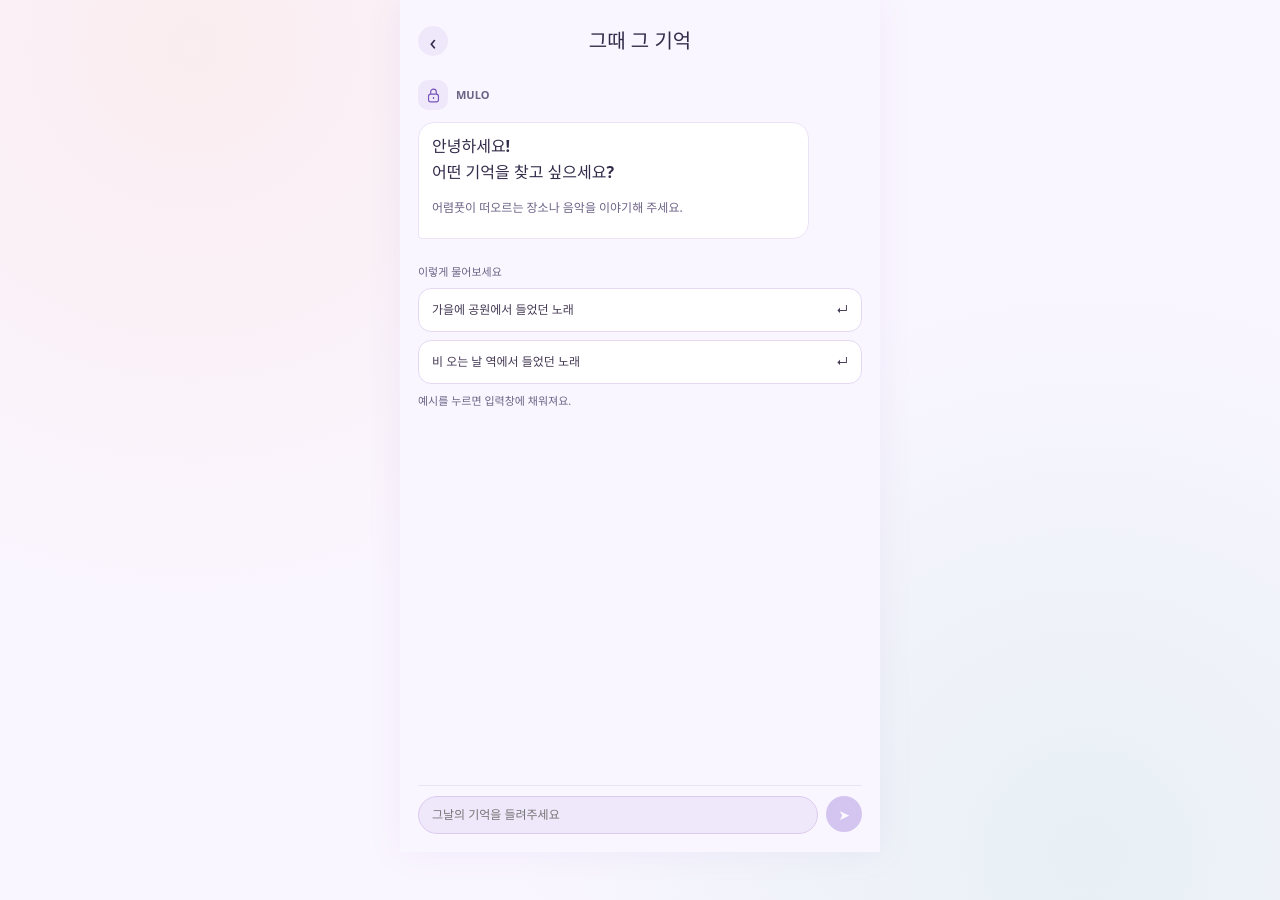
MemorySearchPage › 첫 인사의 예시는 입력만 채우고 전송 후에는 첫 안내를 숨긴다
The width and height of the screenshot is (1280, 900).
Click the button "가을에 공원에서 들었던 노래 ↵".
click(503, 310)  # box [418,288,862,332]
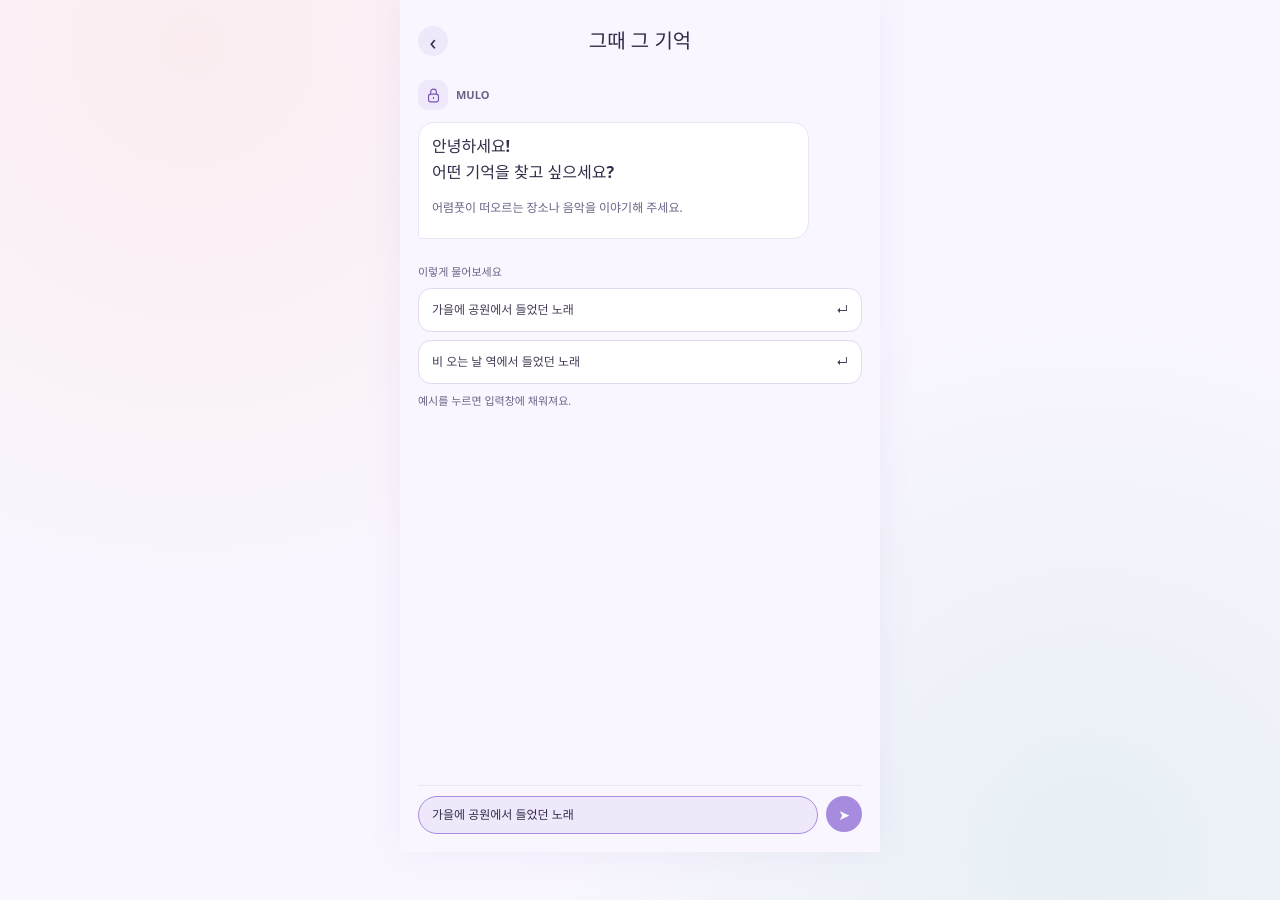
Now the field named "기억 검색 질문" holds "가을에 공원에서 들었던 노래"
Type " 찾아줘" into the field named "기억 검색 질문".
click(618, 815); type(" 찾아줘")  # box [418,796,818,834]
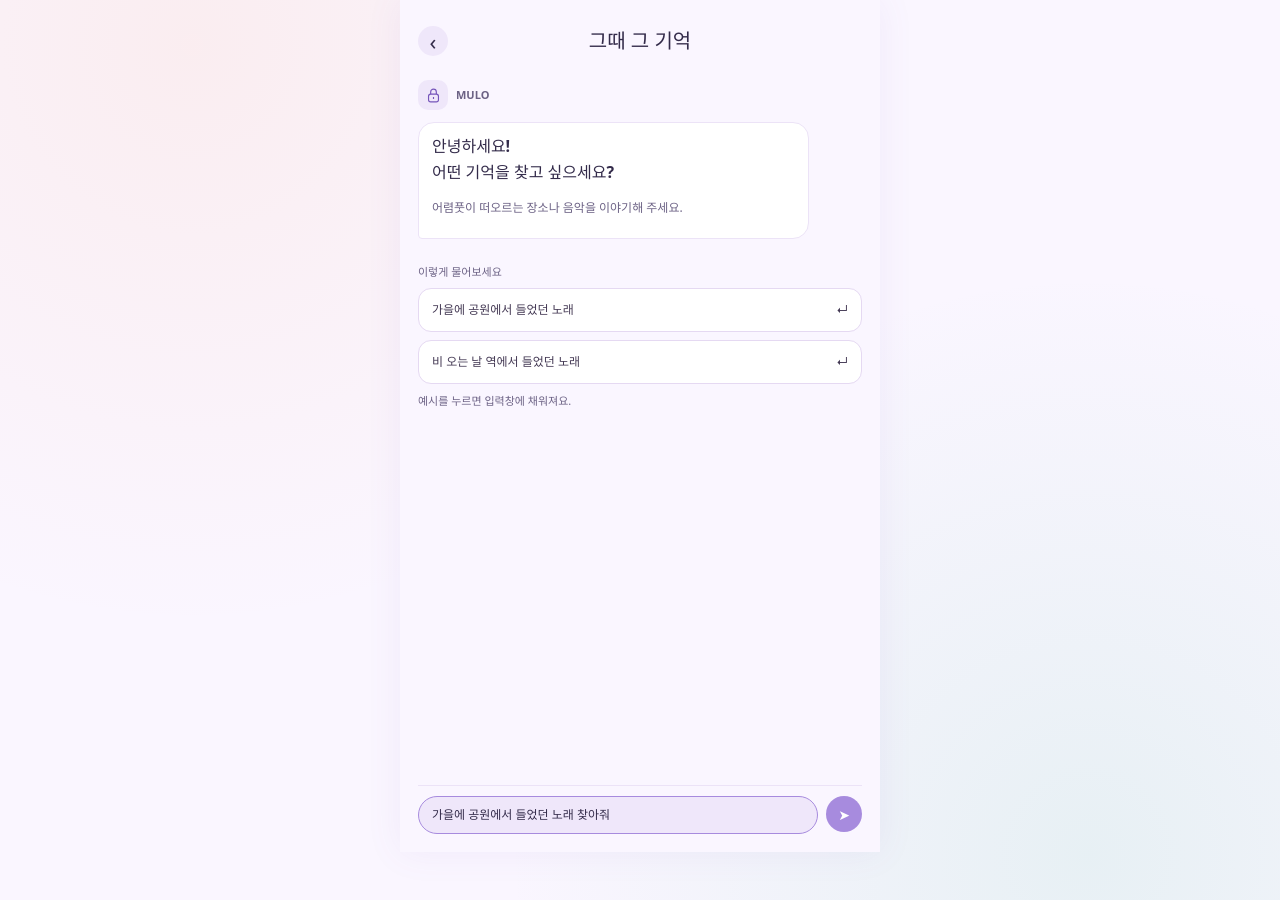
Click the button named "질문 보내기".
click(844, 814)  # box [826,796,862,832]
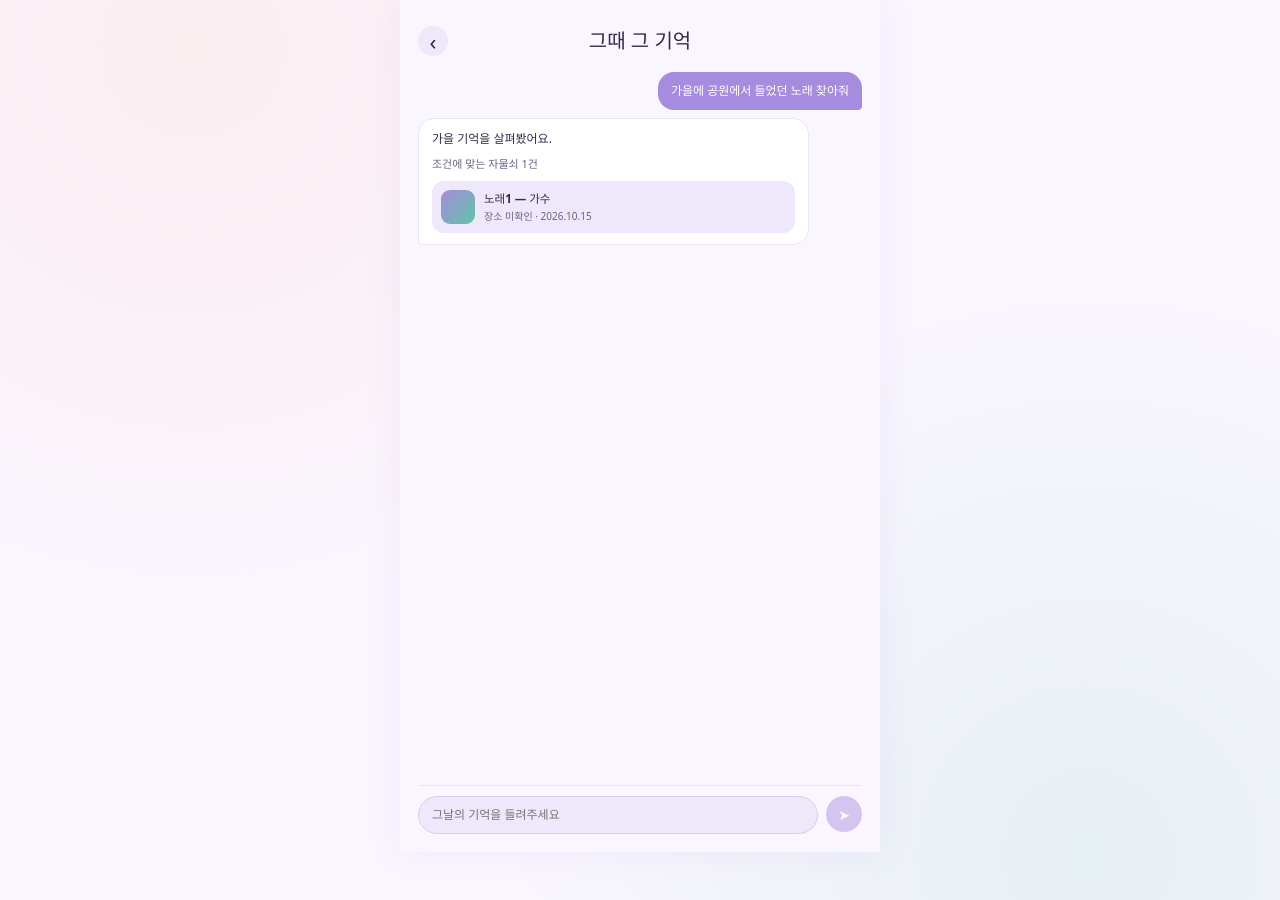
Now the text "가을 기억을 살펴봤어요." is shown, box [432,130,552,147]
Now the text "가을에 공원에서 들었던 노래 찾아줘" is shown, box [658,72,862,110]
Now the heading "어떤 기억을 찾고 싶으세요" is gone
